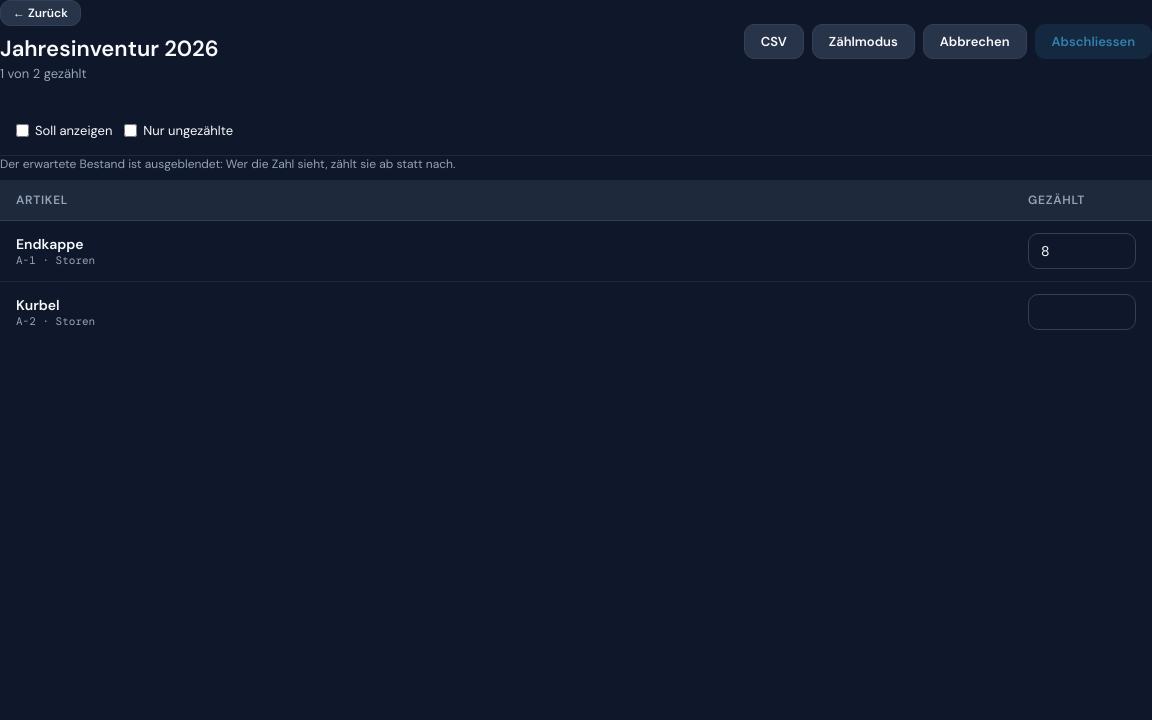
Scenario: Zählmaske › nennt im Abschluss-Dialog die ungezählten Positionen
Check: the text "Kurbel" is shown, box [16, 296, 60, 314]
Click the button "Abschliessen".
click(1093, 41)  # box [1034, 24, 1151, 58]
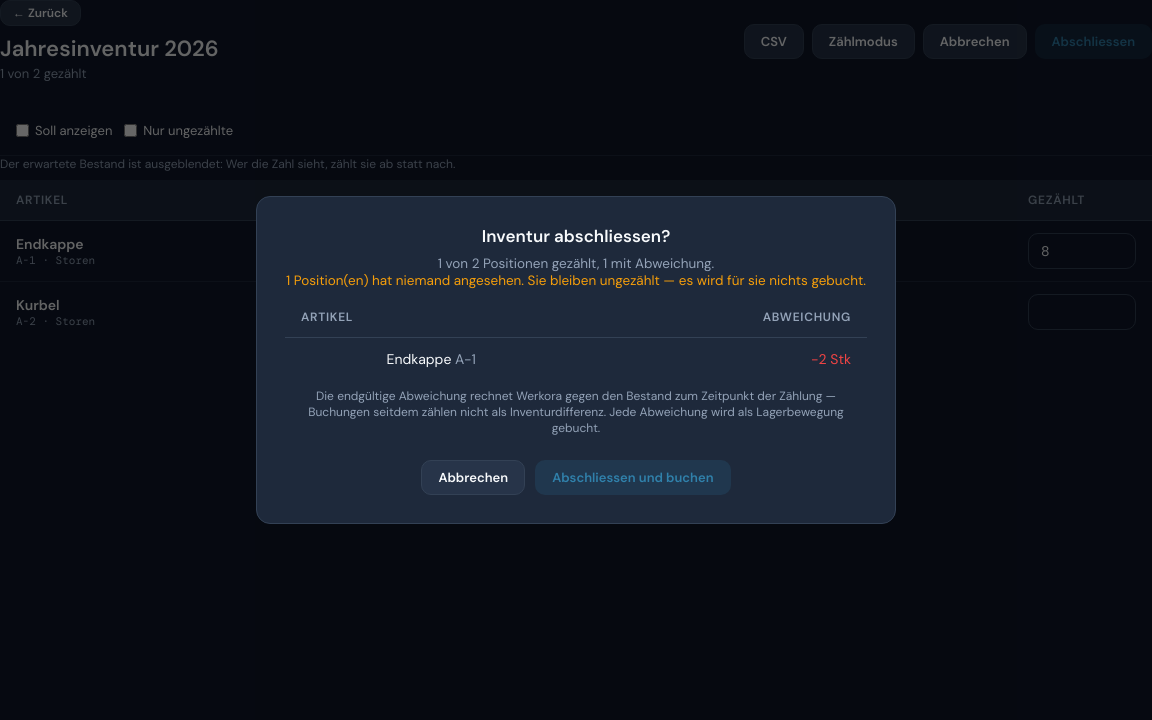
Check: the text "1 Position(en) hat niemand angesehen" is shown, box [285, 272, 867, 289]
